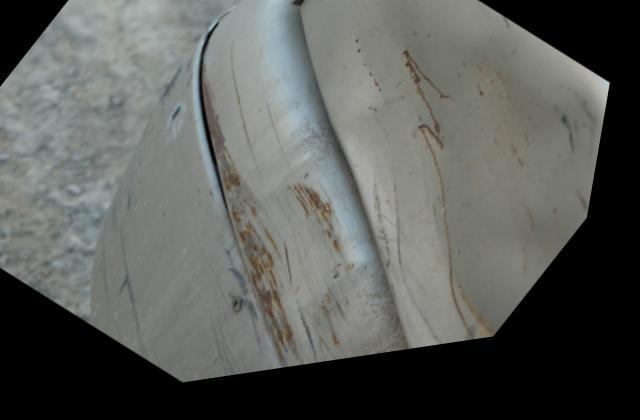dent: (330, 0, 612, 363)
scratch: (100, 43, 294, 390), (199, 42, 398, 379)
